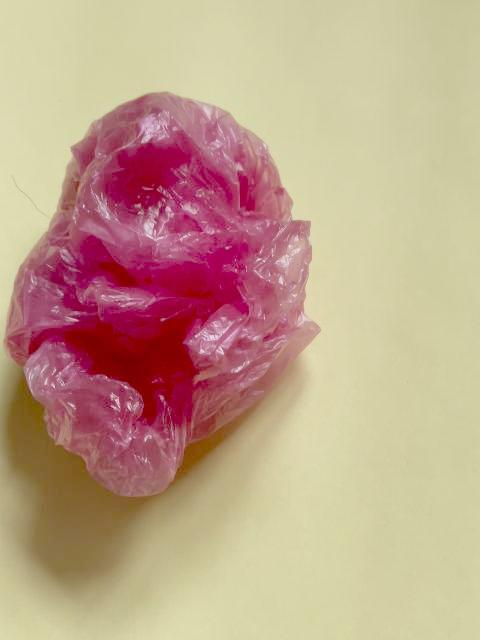plasticbag: (1, 86, 324, 502)
